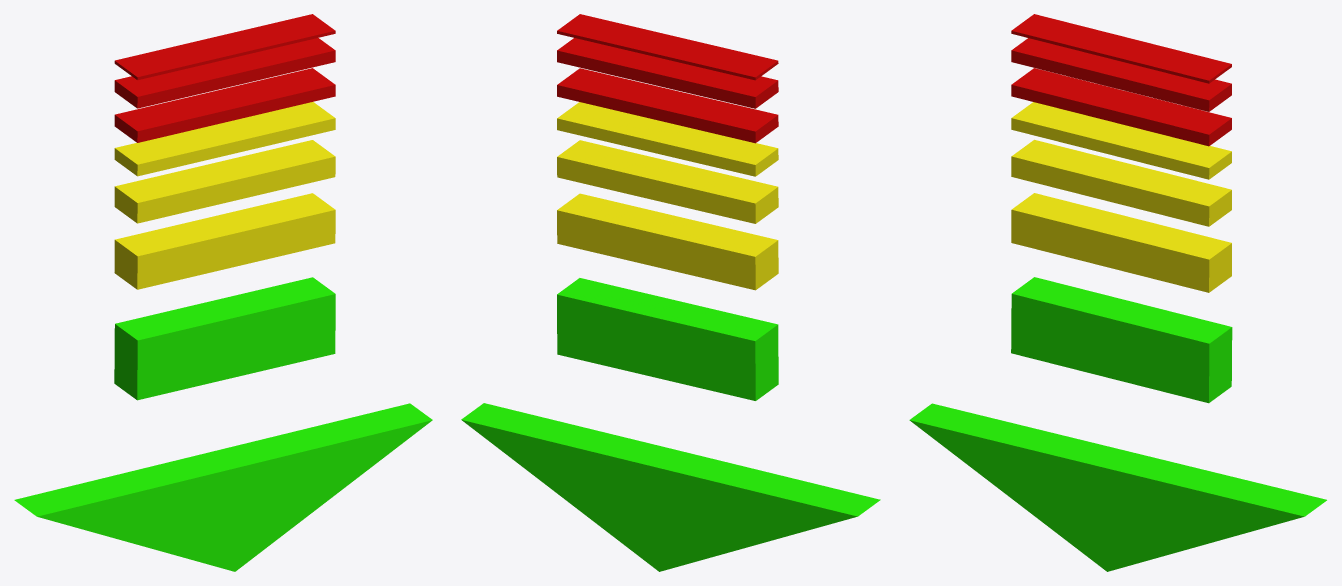
Rendered from arrow.fbx.
3 renders of one model, left to right at view 1: azimuth 30°, elevation 25°; view 2: azimuth 150°, elevation 25°; view 3: azimuth 330°, elevation 25°, orthographic.
Visible parts, largest first — view 1: Box1, Box, Box2, Box3, Box5, Box4, Box6, Box7; view 2: Box1, Box, Box2, Box3, Box5, Box4, Box6, Box7; view 3: Box1, Box, Box2, Box3, Box5, Box4, Box6, Box7.
Boxes of the visible parts, box(x1,y1,x2,y2) form: Box1: box(14, 403, 432, 571); Box: box(114, 277, 335, 400); Box2: box(114, 193, 335, 289); Box3: box(114, 140, 335, 223); Box5: box(114, 68, 335, 142); Box4: box(114, 102, 335, 176); Box6: box(114, 38, 335, 108); Box7: box(114, 14, 335, 80); Box1: box(461, 403, 880, 571); Box: box(557, 278, 778, 400); Box2: box(557, 193, 778, 290); Box3: box(557, 140, 778, 223); Box5: box(557, 68, 778, 143); Box4: box(557, 102, 778, 176); Box6: box(557, 38, 778, 108); Box7: box(557, 14, 778, 80); Box1: box(909, 403, 1326, 571); Box: box(1011, 277, 1232, 403); Box2: box(1011, 193, 1231, 292); Box3: box(1011, 139, 1231, 226); Box5: box(1011, 68, 1231, 146); Box4: box(1011, 102, 1231, 179); Box6: box(1011, 38, 1231, 111); Box7: box(1011, 14, 1231, 83).
Size of the model in its own units: 1 by 1.25 by 0.1035.
